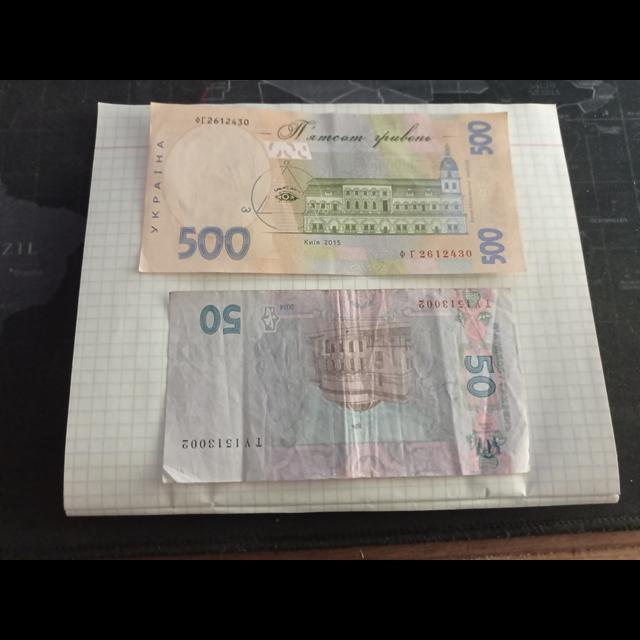500uah: (136, 101, 528, 274)
50uah: (163, 287, 531, 488)
